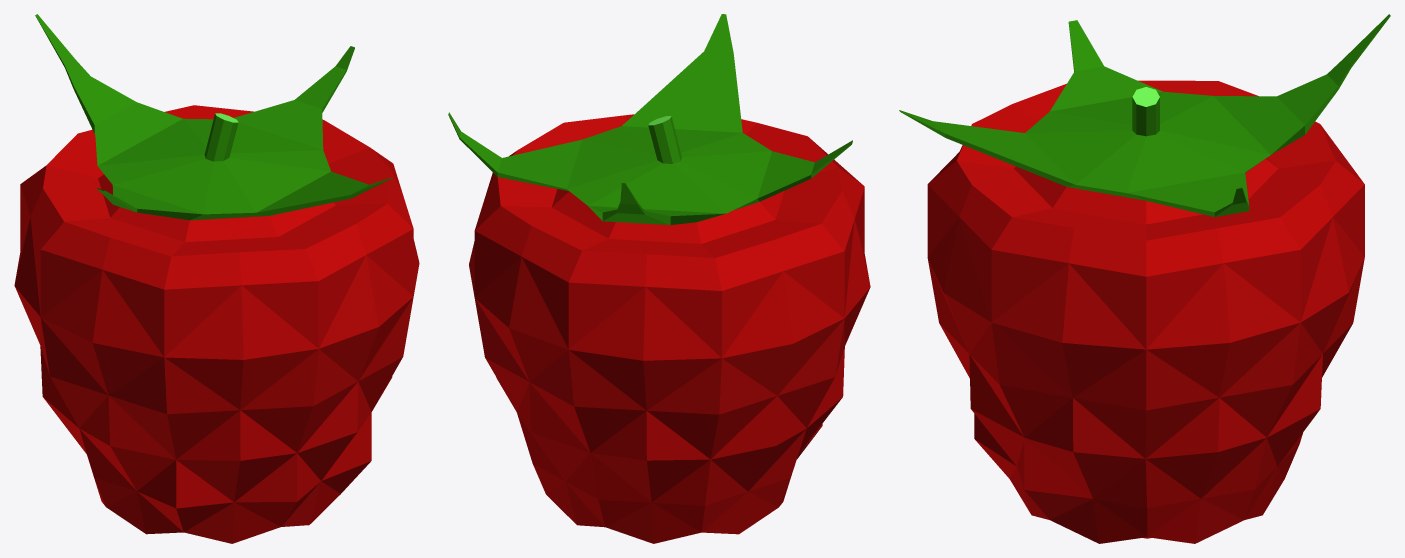
The model's file is raspberry01.obj.
3 views of the same model, side by side, from view 1: azimuth 30°, elevation 25°; view 2: azimuth 150°, elevation 25°; view 3: azimuth 270°, elevation 25° (orthographic). The views are drawn at different scales.
Visible parts, largest first — view 1: Cylinder; view 2: Cylinder; view 3: Cylinder.
Boxes of the visible parts, box(x1,y1,x2,y2) form: Cylinder: box(14, 14, 419, 543); Cylinder: box(448, 14, 870, 543); Cylinder: box(899, 14, 1390, 543).
Bounding box in the file's own units: 0.0313 × 0.0356 × 0.0348.
Materials: 1 (1 with a texture image).
